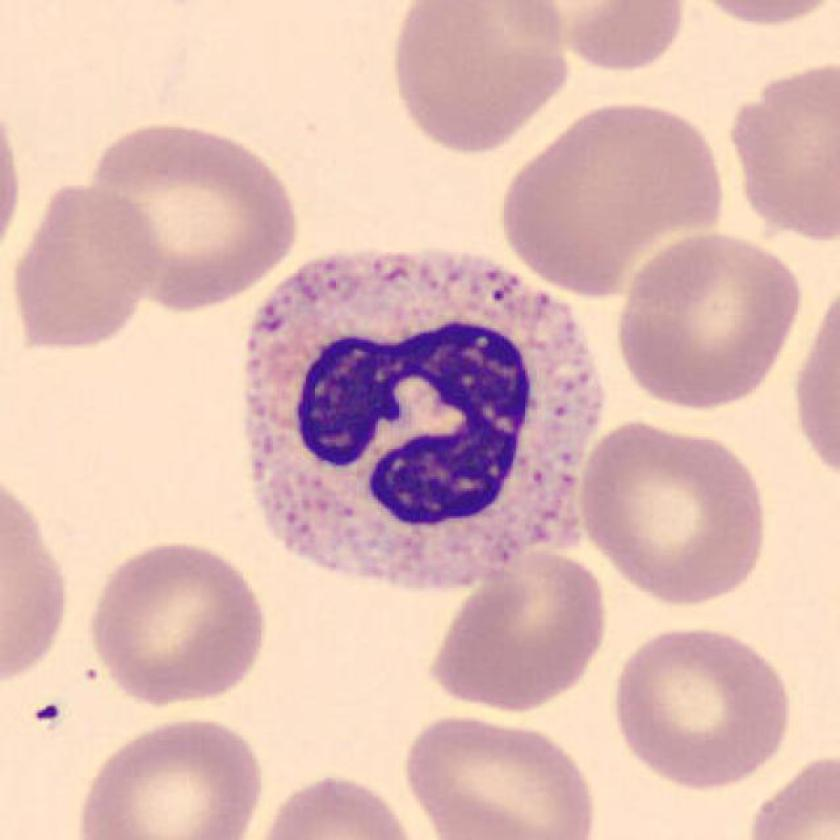neutrophil: (246, 248, 605, 588)
